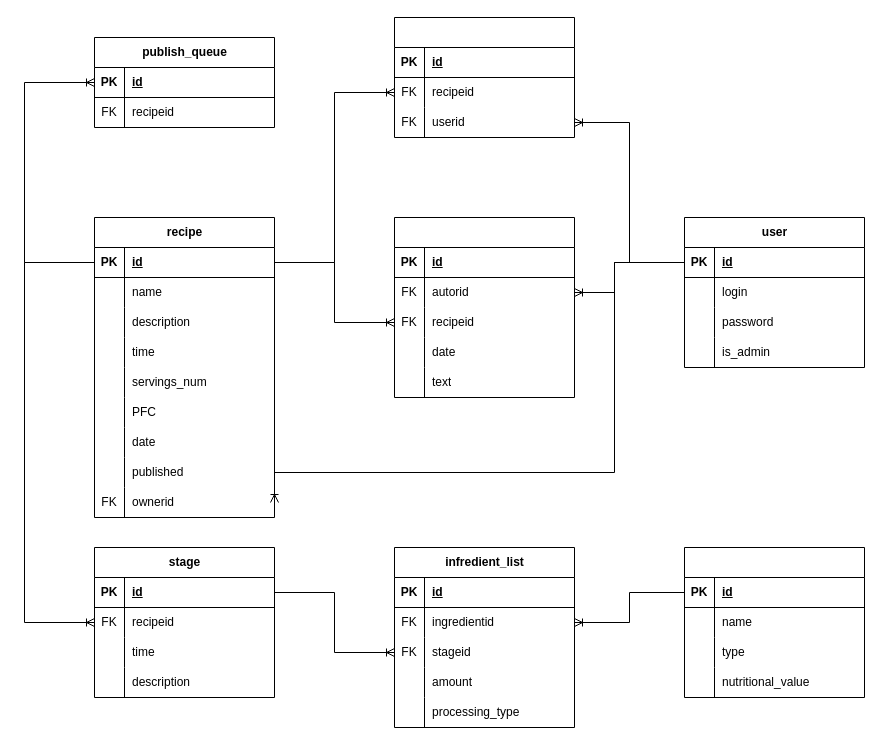
The diagram is 882 pixels wide and 745 high, and some of its shapes have lost their labels. The box of each missing label's shape, as (x1, y1, x2, y2) in pixels:
Comment: (394, 216, 574, 398)
ingredient: (684, 546, 864, 698)
saved_recipes: (394, 16, 574, 138)
